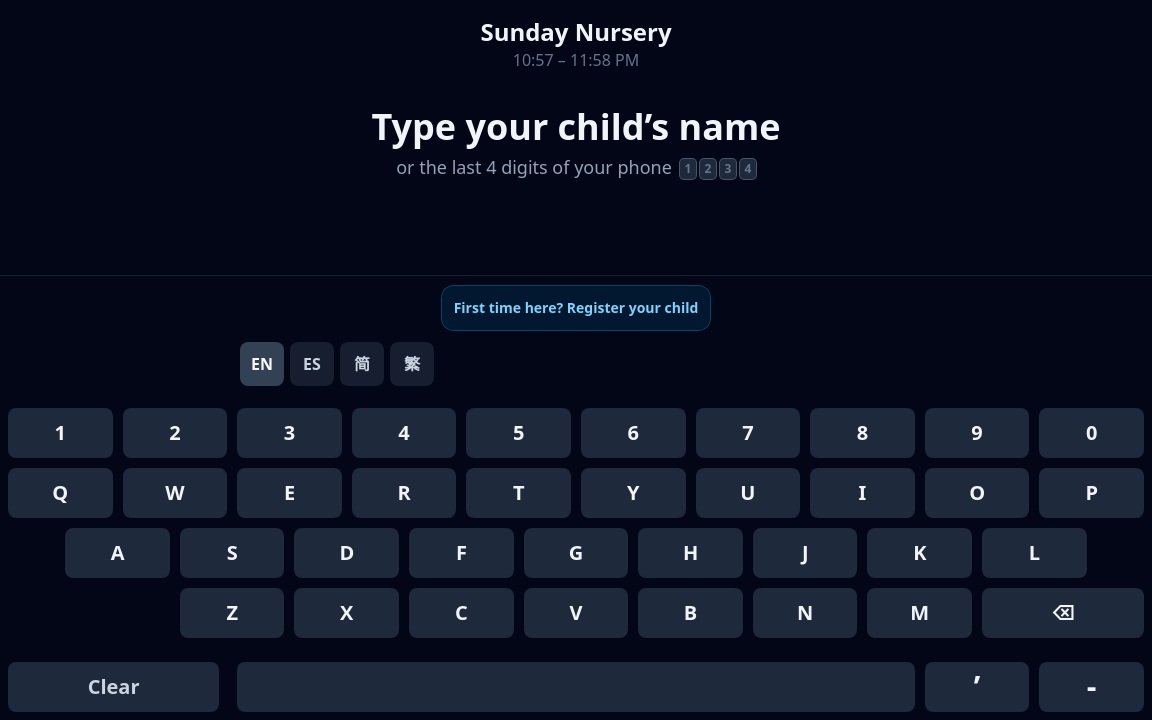
Scenario: the silent sweep for somebody the cached roster does not hold › says it looked, when it looked and found nothing
Press the mouse on the button "G": [576, 553] box [524,528,628,578]
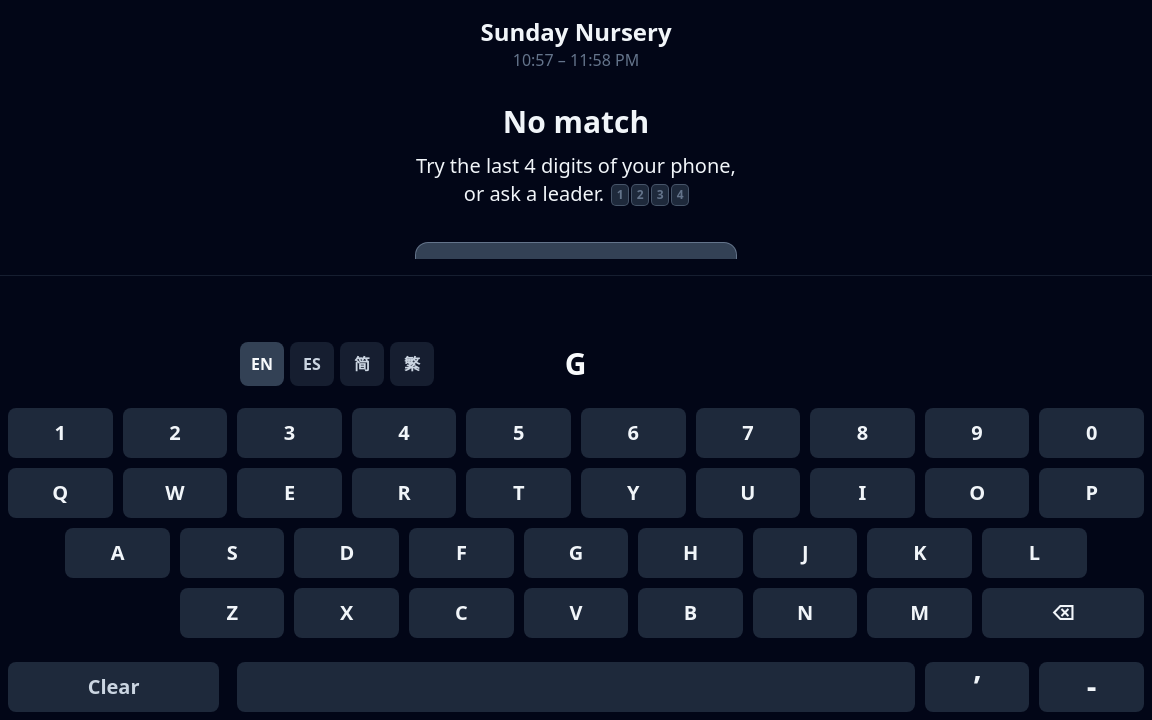
Press the mouse on the button "R": [404, 493] box [352,468,456,518]
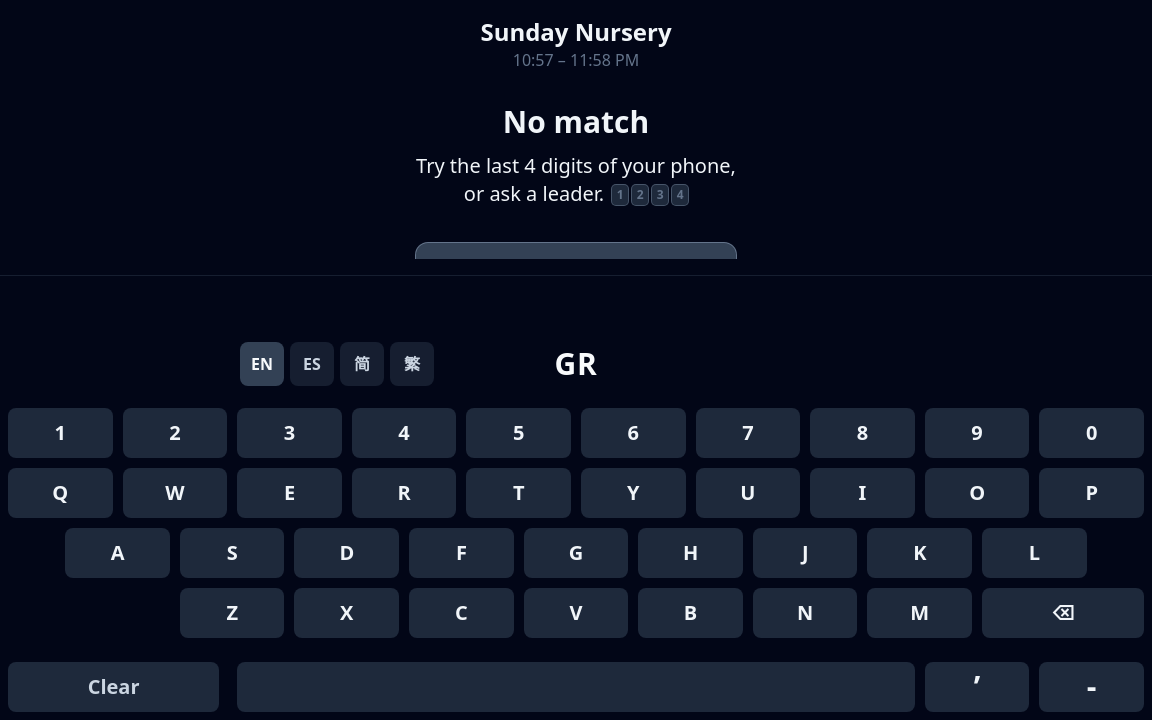
Press the mouse on the button "A": [118, 553] box [65,528,170,578]
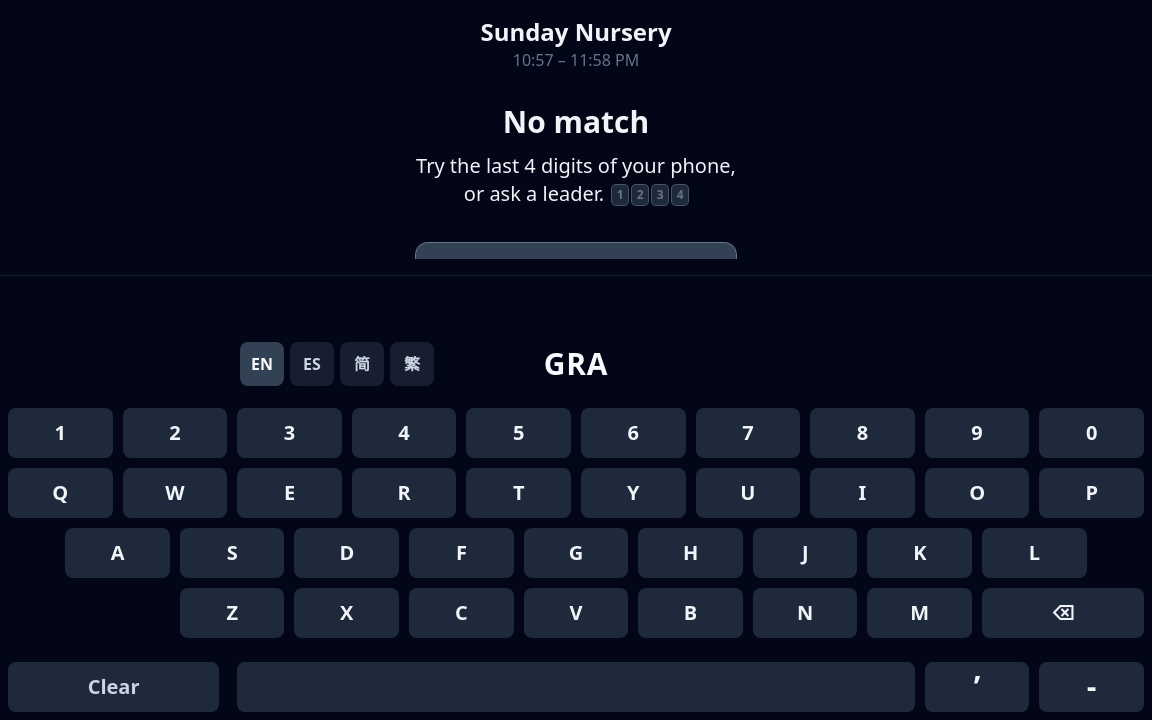
Press the mouse on the button "C": [461, 613] box [409,588,514,638]
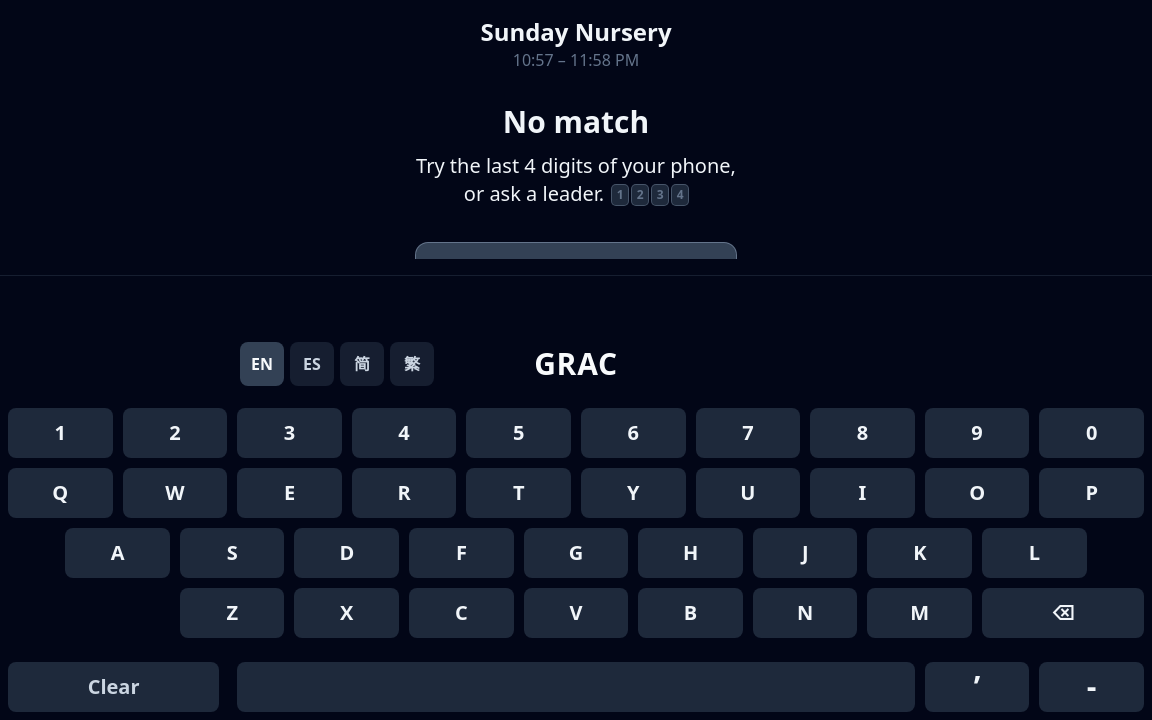
Press the mouse on the button "E": [290, 493] box [237,468,342,518]
Wait 2000 ms
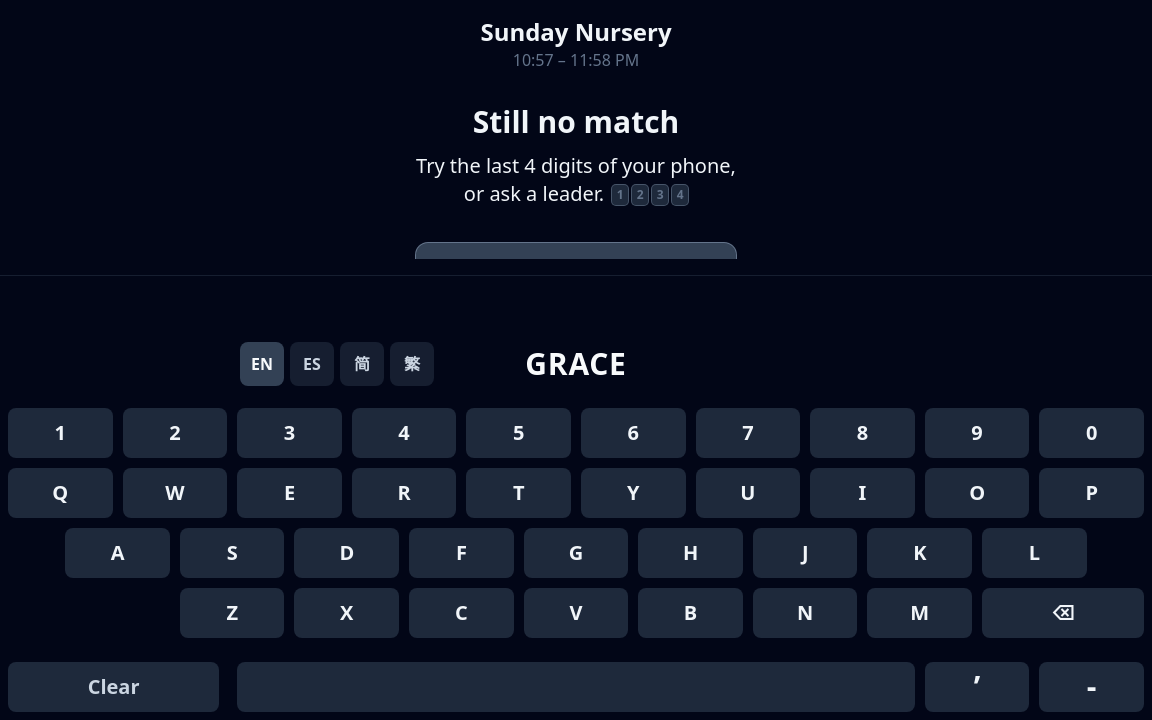
Check: the text "Still no match" is shown, box [473,104,679,140]
